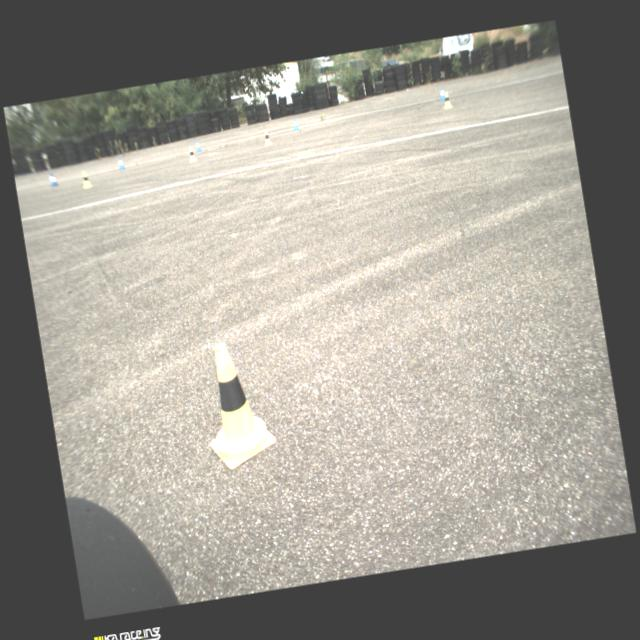blue_cone: (48, 172, 58, 187), (291, 118, 300, 132), (116, 156, 125, 170), (438, 87, 445, 101), (195, 140, 202, 152)
yellow_cone: (194, 337, 280, 472), (80, 170, 92, 189), (262, 128, 272, 146), (442, 91, 452, 109), (188, 146, 198, 163)
